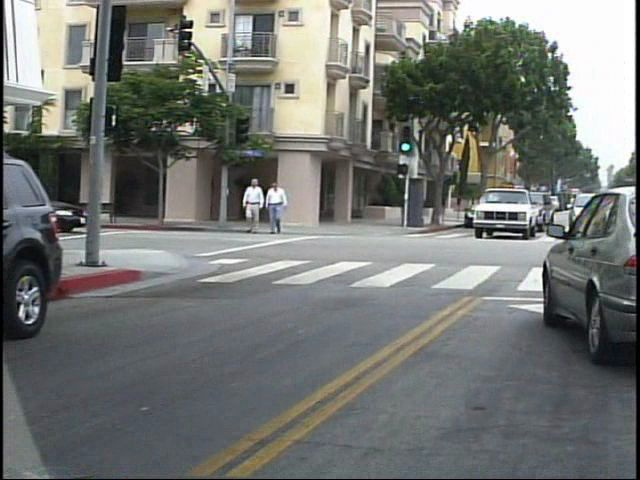person: (271, 176, 298, 239), (247, 176, 270, 239)
